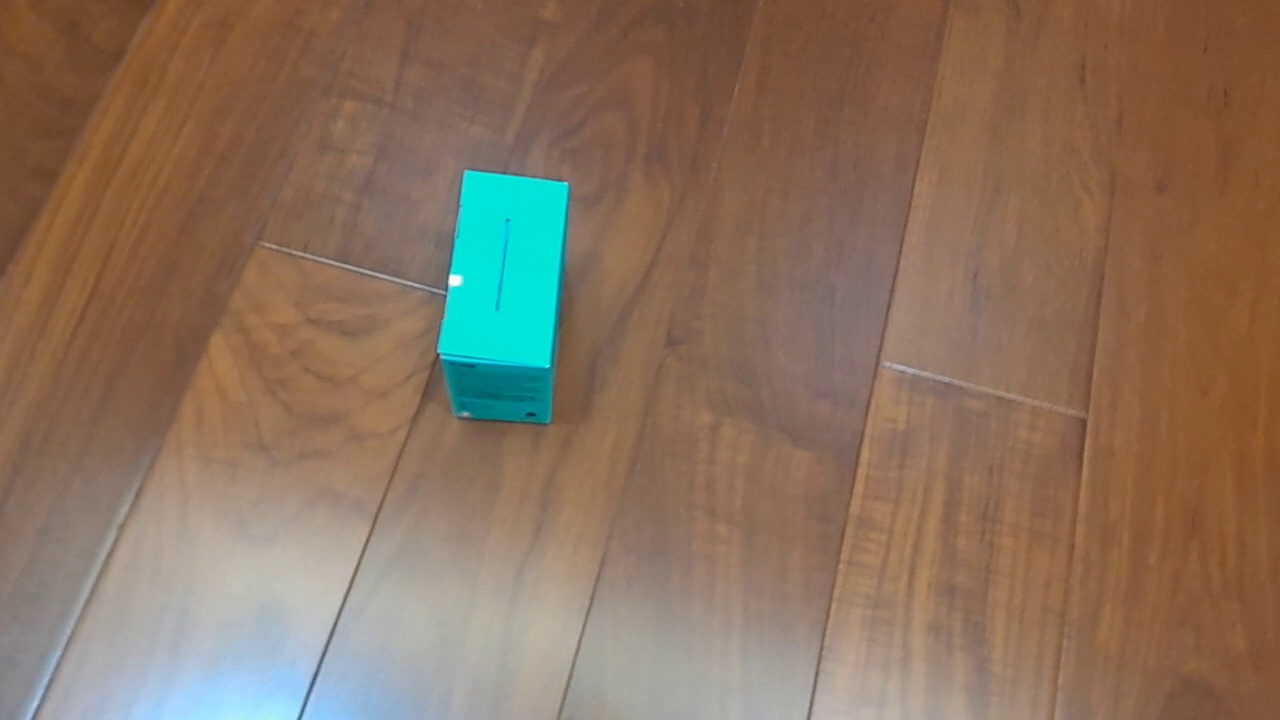webcam: (435, 168, 571, 426)
